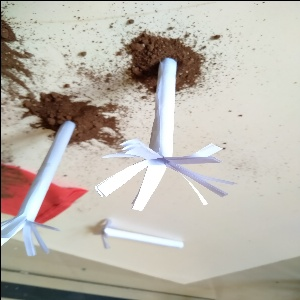weed: (107, 47, 223, 210), (3, 114, 70, 263), (92, 213, 197, 263)
